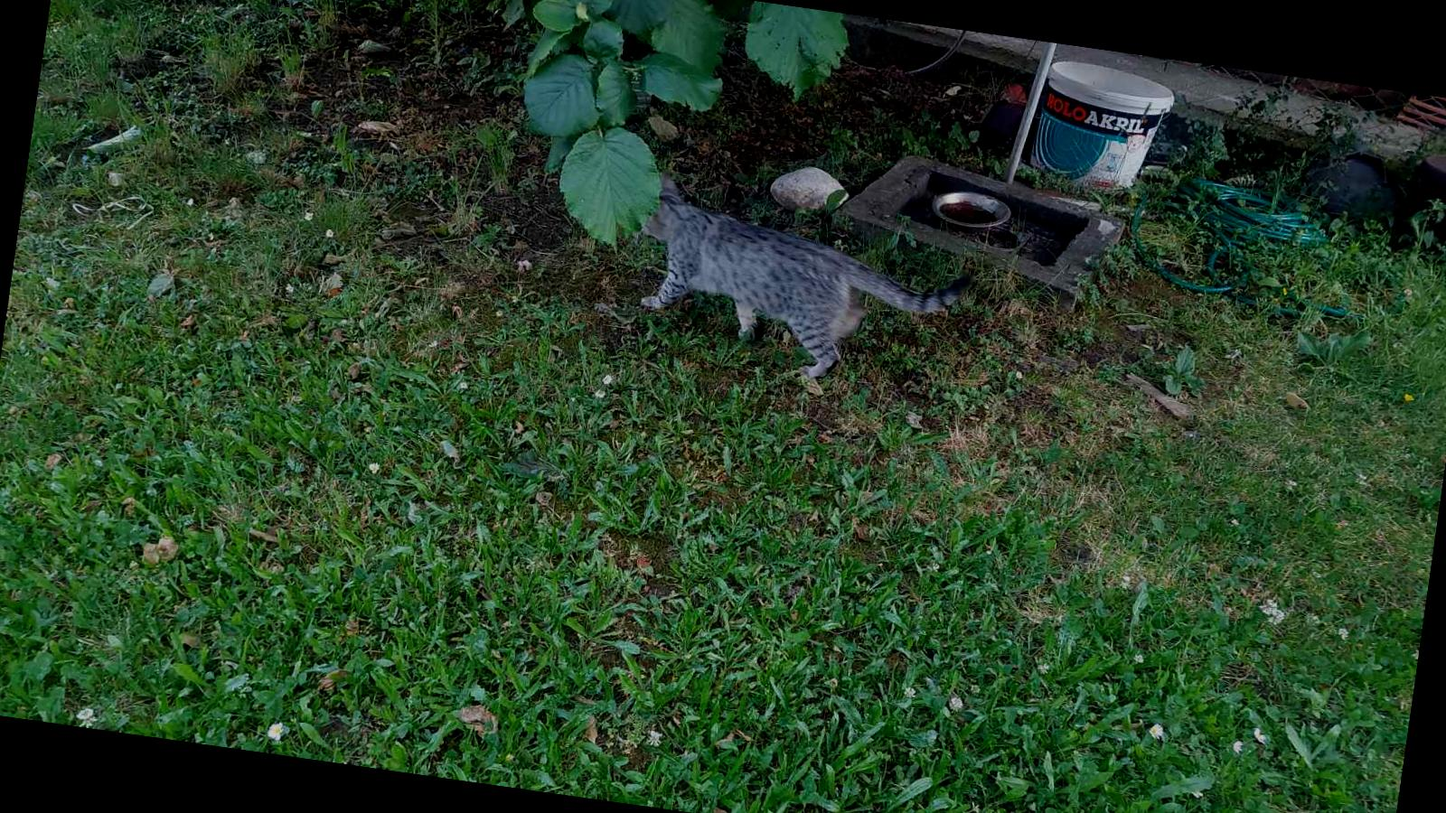macka: (613, 168, 981, 400)
